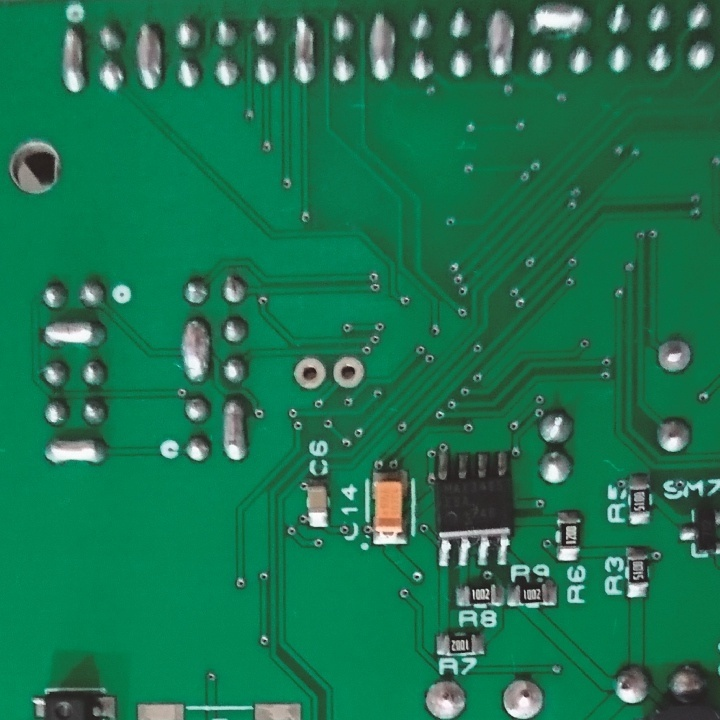F: (501, 675, 550, 720), (422, 675, 470, 720), (654, 334, 695, 382), (327, 349, 367, 394), (290, 353, 327, 390)
P: (523, 3, 595, 40), (481, 6, 517, 79), (365, 6, 397, 88), (177, 316, 213, 387), (39, 317, 110, 352), (40, 436, 112, 469), (133, 22, 166, 93), (59, 22, 89, 98), (219, 397, 250, 467), (290, 15, 319, 88)
